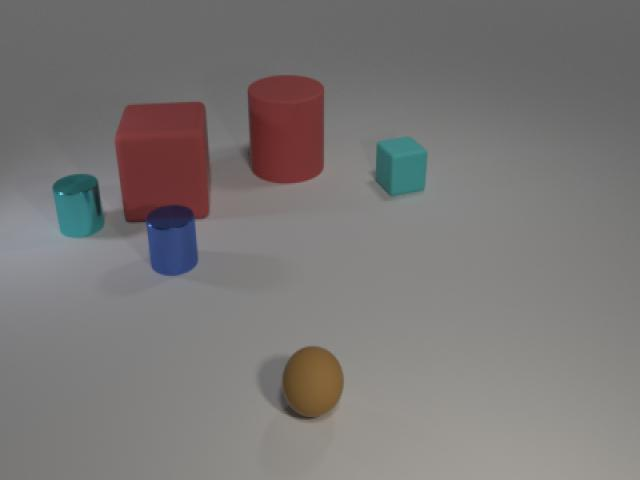cylinder: (240, 70, 332, 188), (141, 200, 207, 282), (49, 168, 109, 242)
round ball: (278, 341, 348, 423)
